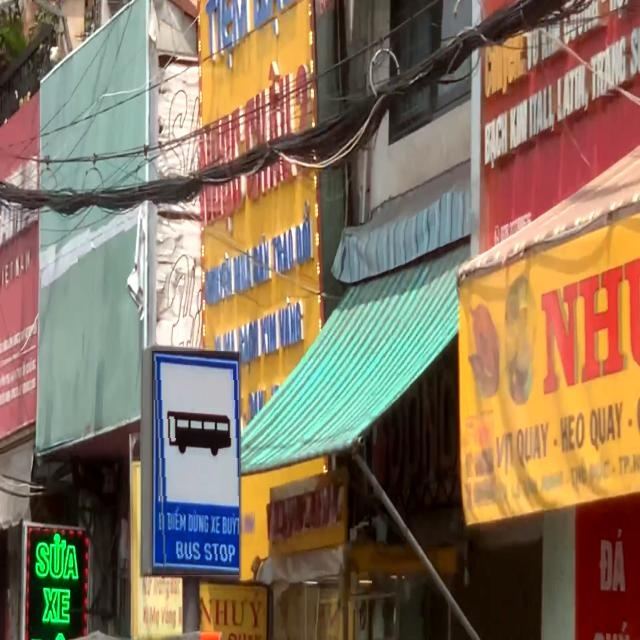bien_chi_dan: (152, 351, 239, 575)
